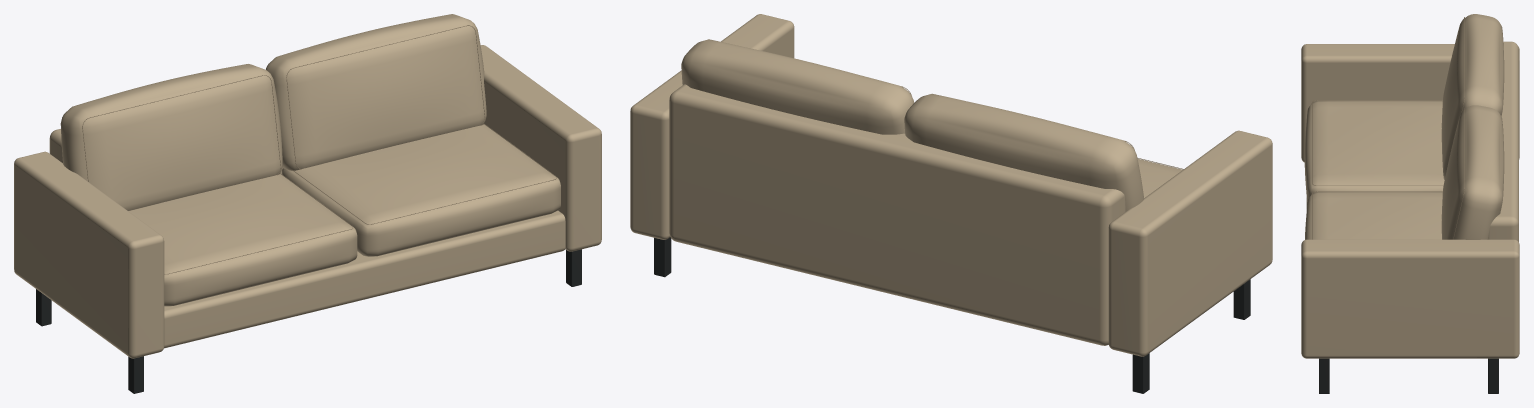
The model's file is forma-sofa-sand.glb.
3 views of the same model, side by side, from view 1: azimuth 30°, elevation 25°; view 2: azimuth 150°, elevation 25°; view 3: azimuth 270°, elevation 25° (orthographic). The views are drawn at different scales.
Visible parts, largest first — view 1: Right Back Cushion.001, Left Back Cushion.001, Right Seat Cushion.001, Left Arm.001, Left Seat Cushion.001, Base Upholstered Rail.001, Right Arm.001, Left Front Steel Leg.001, Right Front Steel Leg.001; view 2: Rear Upholstered Panel.001, Left Arm.001, Left Back Cushion.001, Right Back Cushion.001, Right Arm.001, Left Seat Cushion.001, Left Rear Steel Leg.001, Right Rear Steel Leg.001, Left Front Steel Leg.001; view 3: Right Arm.001, Left Seat Cushion.001, Left Arm.001, Right Back Cushion.001, Right Seat Cushion.001, Left Back Cushion.001, Rear Upholstered Panel.001, Right Front Steel Leg.001, Right Rear Steel Leg.001, Left Seat Cushion_Piping.001.
Part boxes in pixels (x1,y1,x2,y2): Right Back Cushion.001: (266, 14, 486, 170); Left Back Cushion.001: (60, 64, 282, 210); Right Seat Cushion.001: (282, 124, 560, 256); Left Arm.001: (14, 151, 164, 358); Left Seat Cushion.001: (128, 174, 357, 306); Base Upholstered Rail.001: (164, 210, 565, 348); Right Arm.001: (480, 45, 601, 251); Left Front Steel Leg.001: (128, 356, 143, 393); Right Front Steel Leg.001: (566, 249, 581, 286); Rear Upholstered Panel.001: (669, 84, 1125, 345); Left Arm.001: (1108, 130, 1272, 356); Left Back Cushion.001: (904, 93, 1144, 211); Right Back Cushion.001: (681, 39, 914, 134); Right Arm.001: (630, 14, 794, 239); Left Seat Cushion.001: (1137, 159, 1182, 197); Left Rear Steel Leg.001: (1132, 353, 1149, 393); Right Rear Steel Leg.001: (654, 237, 671, 277); Left Front Steel Leg.001: (1233, 279, 1250, 319); Right Arm.001: (1301, 239, 1519, 358); Left Seat Cushion.001: (1304, 100, 1444, 201); Left Arm.001: (1301, 44, 1519, 162); Right Back Cushion.001: (1441, 105, 1504, 239); Right Seat Cushion.001: (1305, 191, 1442, 239); Left Back Cushion.001: (1441, 14, 1504, 179); Rear Upholstered Panel.001: (1487, 41, 1518, 241); Right Front Steel Leg.001: (1319, 358, 1329, 393); Right Rear Steel Leg.001: (1488, 358, 1498, 393); Left Seat Cushion_Piping.001: (1312, 100, 1443, 185).
Size of the model in its own units: 2.2 by 0.9626 by 0.96.
